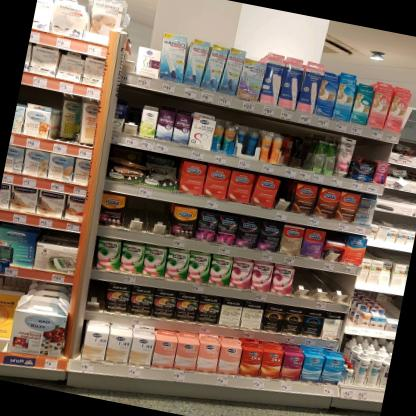empty_space: (294, 124, 320, 171), (121, 194, 151, 232), (145, 199, 175, 237), (122, 86, 145, 135), (120, 26, 143, 73), (329, 272, 356, 305), (290, 266, 316, 299), (310, 269, 335, 302), (85, 278, 108, 313), (274, 176, 296, 212), (376, 187, 414, 206), (412, 193, 416, 207)
